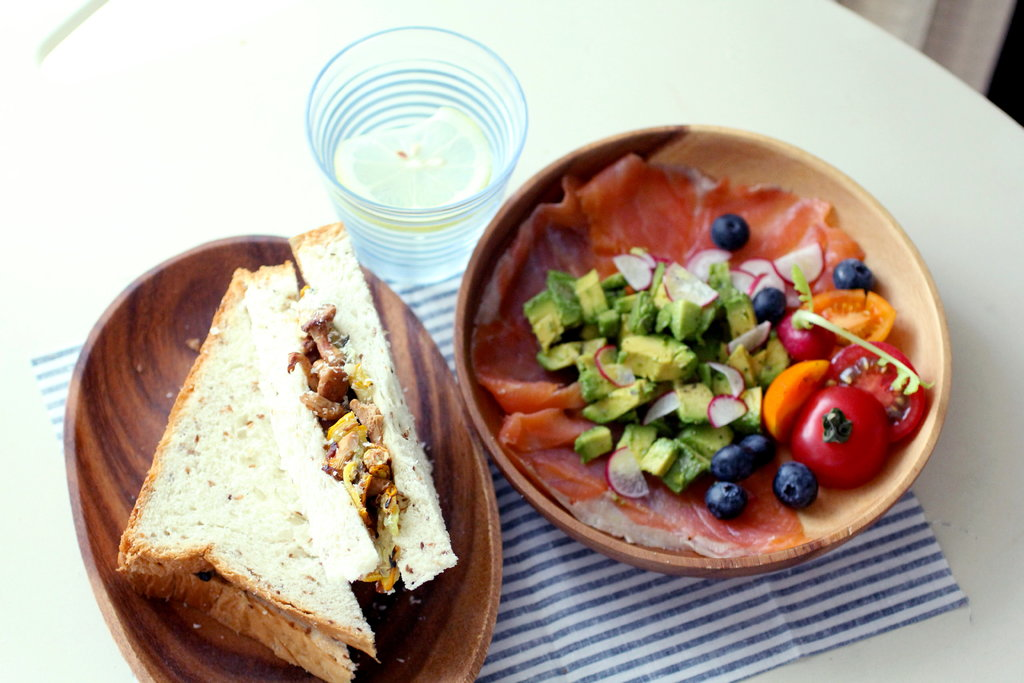salad: (474, 147, 939, 561)
